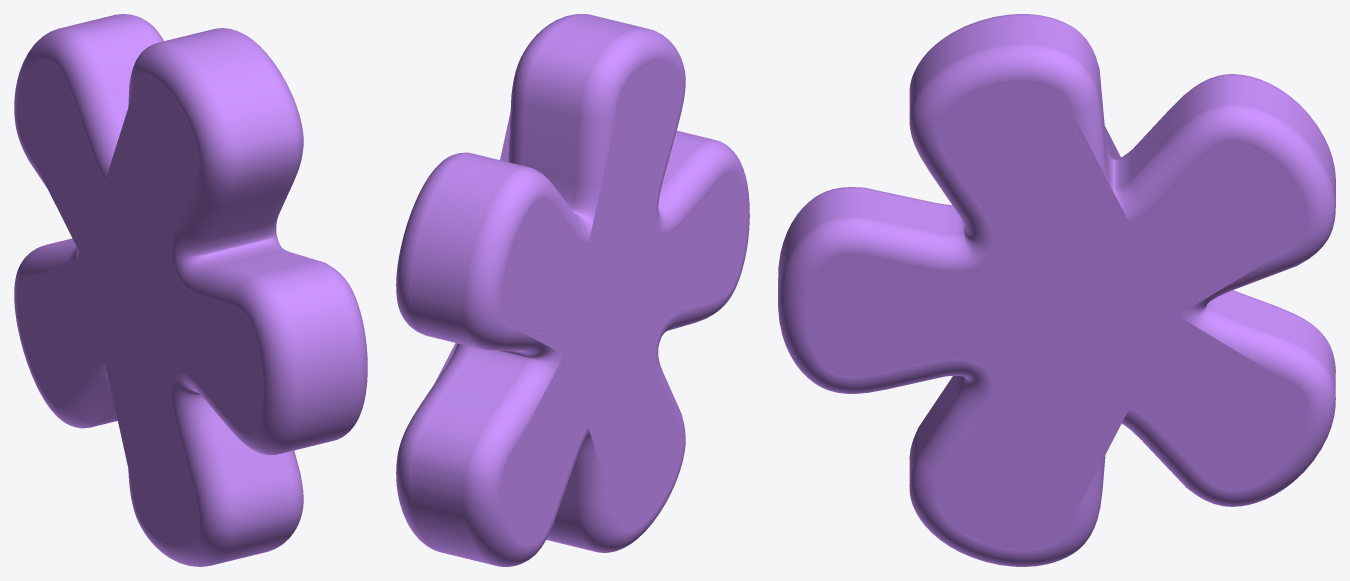
File: purple-flower.fbx
3 views of the same model, side by side, from view 1: azimuth 30°, elevation 25°; view 2: azimuth 150°, elevation 25°; view 3: azimuth 270°, elevation 25° (orthographic). The views are drawn at different scales.
Parts seen in each view (by area): view 1: Extrude; view 2: Extrude; view 3: Extrude.
Boxes of the visible parts, x1,y1,x2,y2 form: Extrude: (14, 14, 367, 566); Extrude: (396, 14, 749, 566); Extrude: (778, 14, 1335, 566).
Size of the model in its own units: 17.61 by 84.56 by 82.1.
